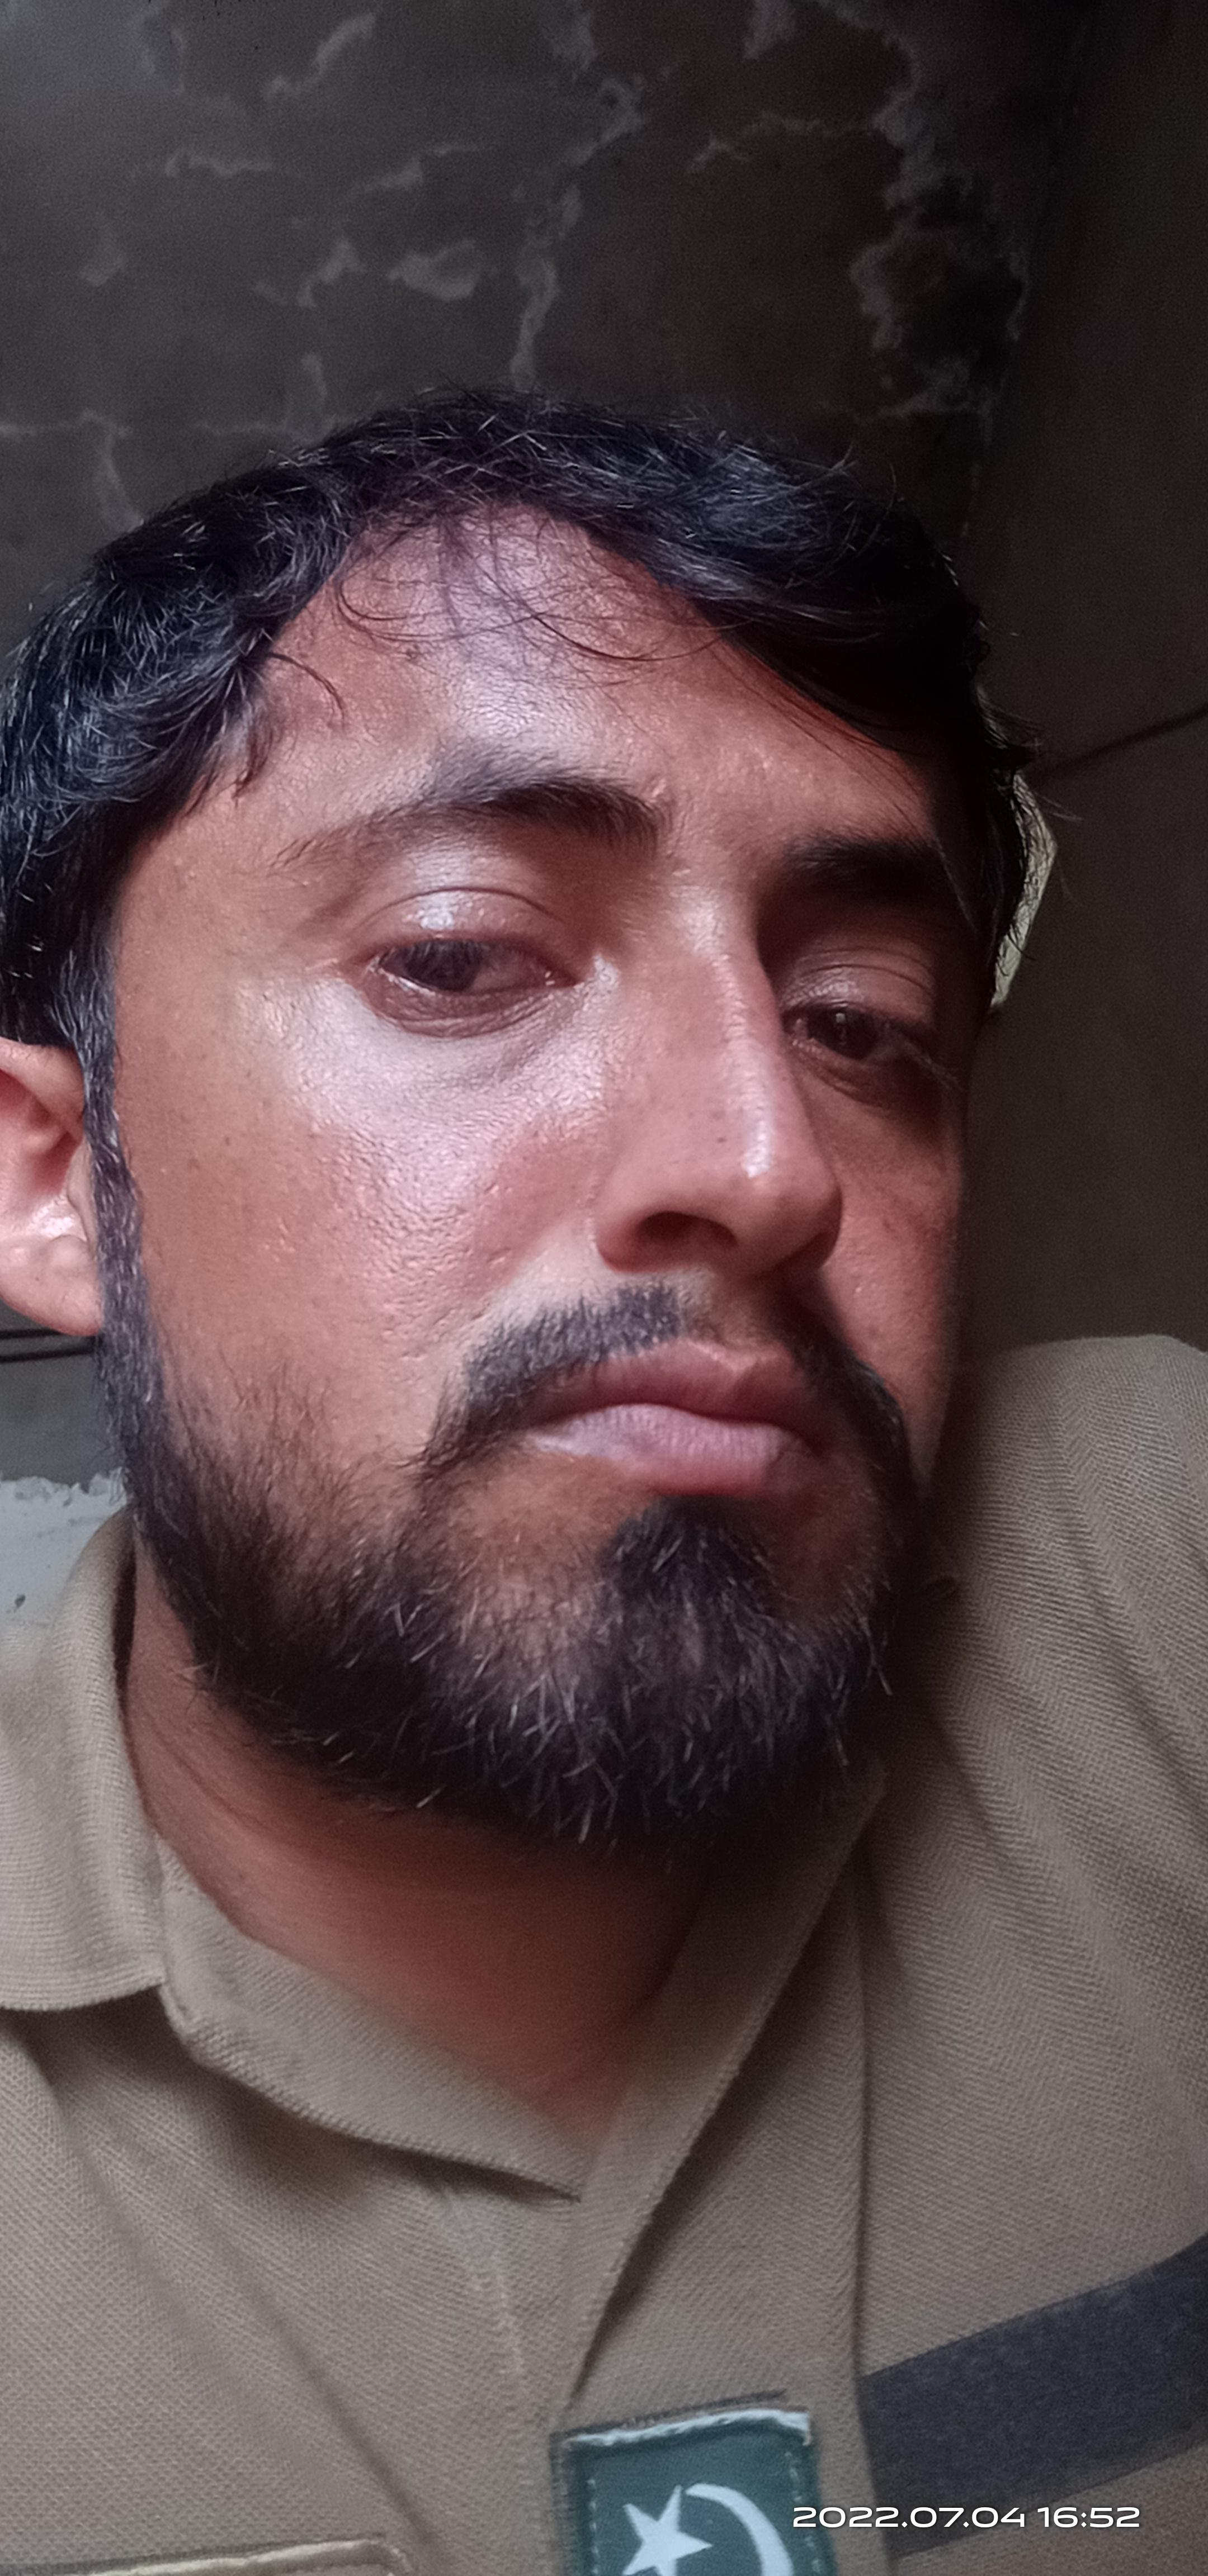Acne: (707, 1125, 740, 1148), (166, 851, 192, 876), (302, 1117, 322, 1138)
Englarged-Pores: (325, 1111, 506, 1342)
